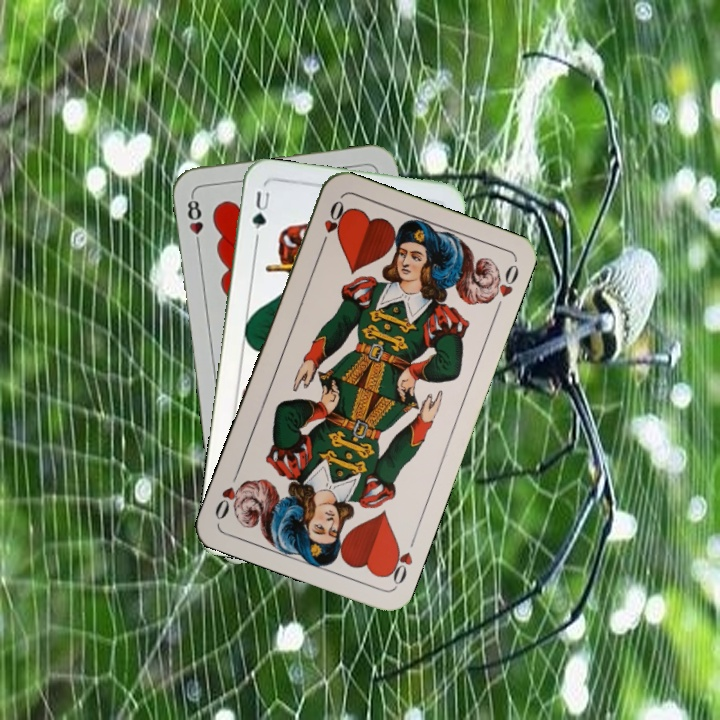GU: (248, 186, 273, 232)
H8: (183, 191, 206, 251)
HO: (316, 196, 347, 252), (381, 539, 416, 588)
